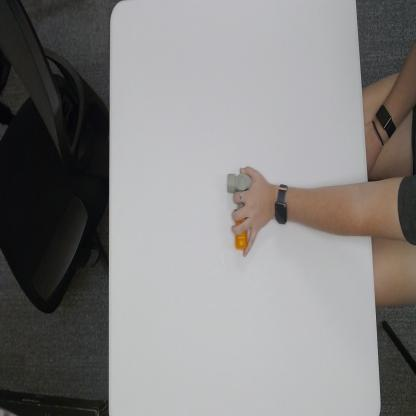Arm: (290, 181, 370, 239)
Hammer: (225, 169, 252, 251)
Hand: (231, 166, 272, 257)
